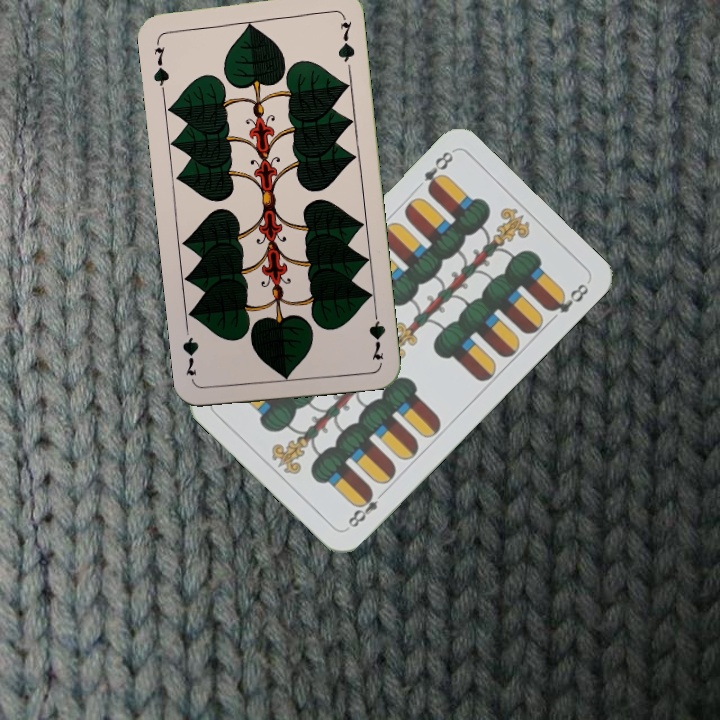E8: (344, 485, 389, 530), (419, 147, 456, 196)
G7: (365, 304, 388, 363), (149, 35, 172, 94)
